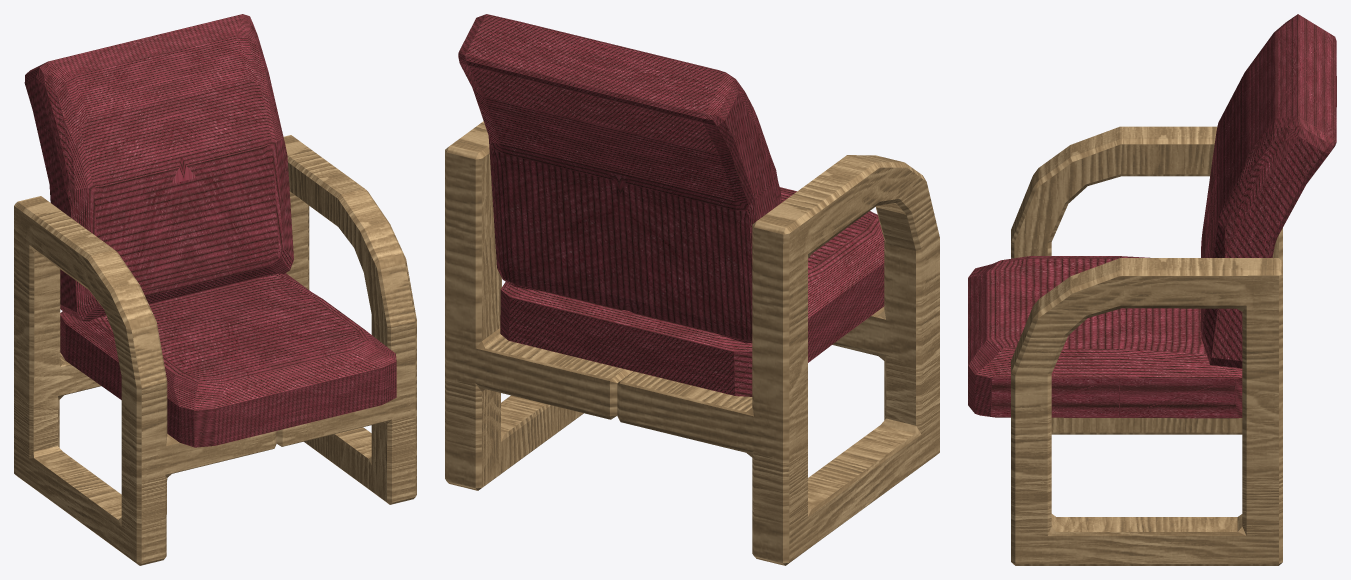
Rendered from Chair.fbx.
3 views of the same model, side by side, from view 1: azimuth 30°, elevation 25°; view 2: azimuth 150°, elevation 25°; view 3: azimuth 270°, elevation 25° (orthographic). The views are drawn at different scales.
Parts seen in each view (by area): view 1: Chair; view 2: Chair; view 3: Chair.
Part boxes in pixels (bbox=[...]): Chair: bbox=[14, 14, 416, 565]; Chair: bbox=[445, 14, 939, 565]; Chair: bbox=[968, 14, 1336, 565].
Size of the model in its own units: 256 by 348 by 271.
